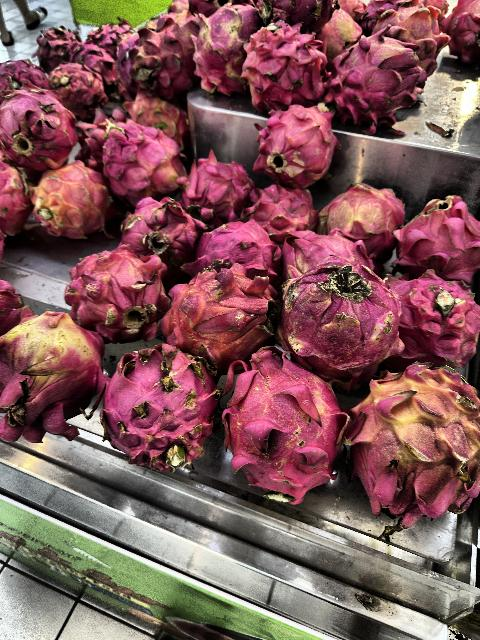buah-naga-belum-matang: (338, 359, 480, 525), (0, 312, 106, 456), (36, 165, 112, 237), (322, 178, 402, 246)
buah-naga-matang: (218, 348, 344, 504), (104, 342, 222, 474), (279, 258, 407, 368), (62, 249, 170, 343), (164, 268, 280, 352), (384, 271, 480, 369), (326, 39, 426, 130), (394, 198, 480, 284), (252, 97, 344, 175), (187, 8, 261, 100), (102, 114, 182, 196), (245, 24, 325, 106), (0, 87, 78, 165), (371, 2, 453, 76), (132, 15, 206, 96), (118, 195, 194, 262), (189, 223, 283, 270), (244, 178, 318, 236), (181, 156, 243, 218), (246, 1, 338, 36), (48, 64, 107, 114), (0, 160, 32, 242), (446, 0, 480, 76), (70, 40, 125, 81), (1, 58, 46, 94), (36, 27, 74, 61), (88, 22, 138, 46)
